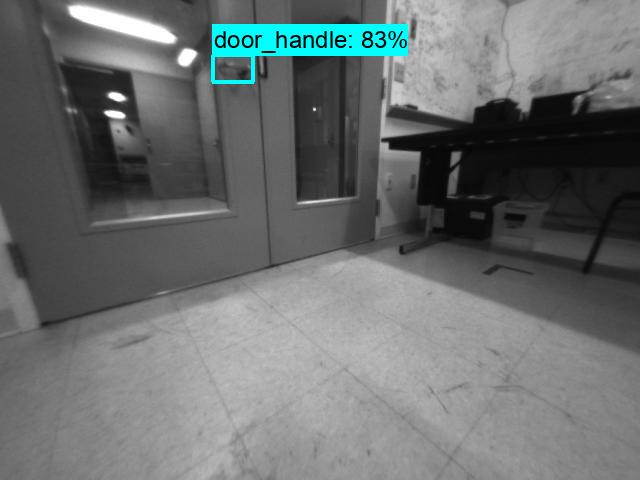door_handle: (213, 56, 253, 82)
